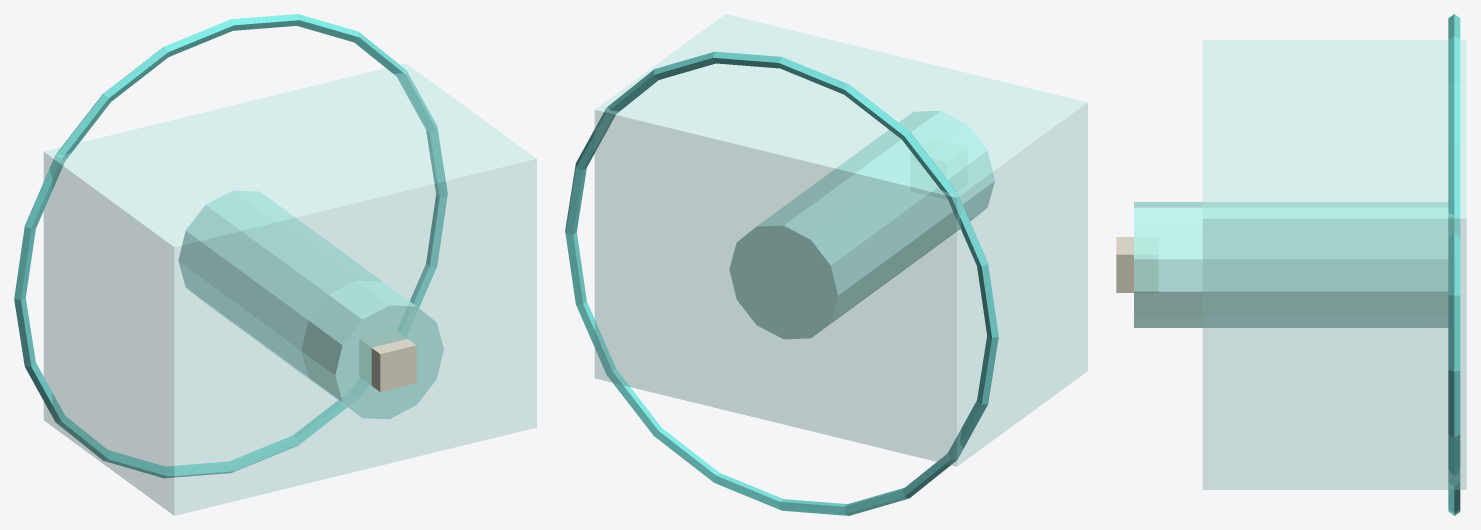
The model's file is 03_lod_collision_overlay_3.glb.
The picture shows the model from 3 angles, left to right: view 1: azimuth 30°, elevation 25°; view 2: azimuth 150°, elevation 25°; view 3: azimuth 270°, elevation 25°; orthographic projection.
Parts seen in each view (by area): view 1: lod_proxy_box, capsule_hint_center, bounds_ring_floor, pivot_marker; view 2: lod_proxy_box, capsule_hint_center, bounds_ring_floor; view 3: lod_proxy_box, capsule_hint_center, bounds_ring_floor, pivot_marker.
Part boxes in pixels (box(x1,y1,x2,y2)): lod_proxy_box: box(44, 63, 536, 515); capsule_hint_center: box(178, 190, 443, 419); bounds_ring_floor: box(14, 14, 447, 478); pivot_marker: box(360, 330, 416, 391); lod_proxy_box: box(595, 14, 1087, 466); capsule_hint_center: box(729, 110, 994, 339); bounds_ring_floor: box(565, 51, 998, 515); lod_proxy_box: box(1203, 40, 1466, 489); capsule_hint_center: box(1134, 202, 1448, 327); bounds_ring_floor: box(1448, 14, 1460, 515); pivot_marker: box(1116, 237, 1157, 292).
Size of the model in its own units: 1.44 by 1.44 by 0.995.
